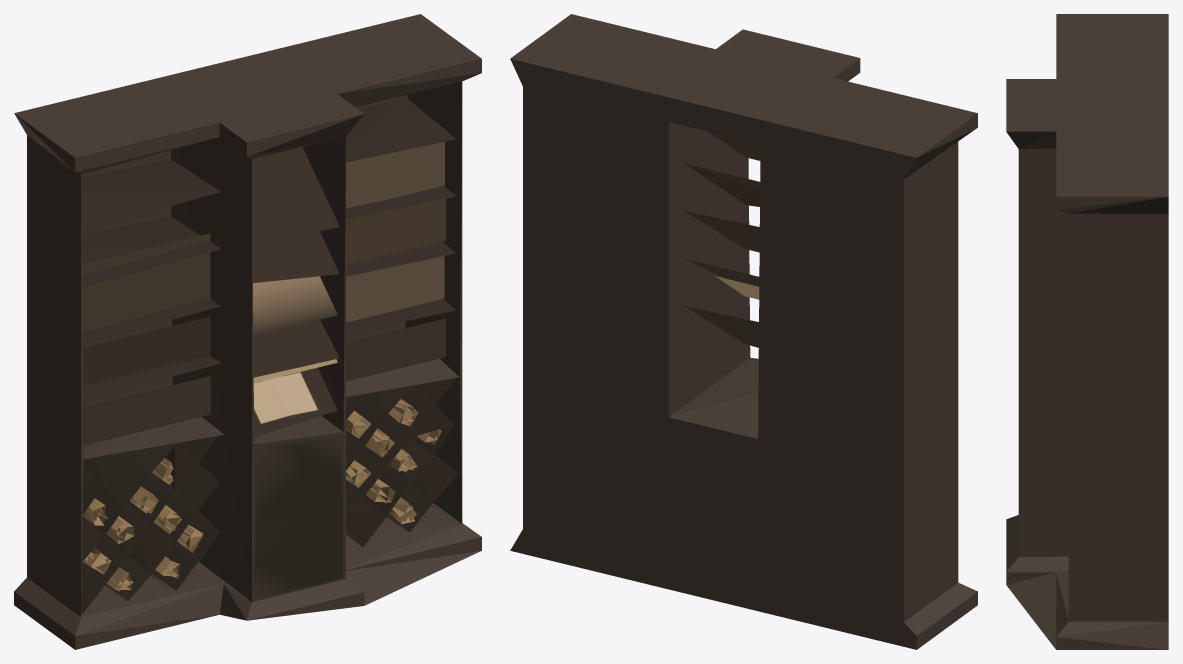
Rendered from bookshelf.lod1.glb.
3 views of the same model, side by side, from view 1: azimuth 30°, elevation 25°; view 2: azimuth 150°, elevation 25°; view 3: azimuth 270°, elevation 25° (orthographic). The views are drawn at different scales.
Visible parts, largest first — view 1: Object_4; view 2: Object_4; view 3: Object_4.
Boxes of the visible parts, box(x1,y1,x2,y2) form: Object_4: box(14, 14, 481, 649); Object_4: box(510, 14, 977, 649); Object_4: box(1006, 14, 1168, 649).
Size of the model in its own units: 1.73 by 2 by 0.65.
